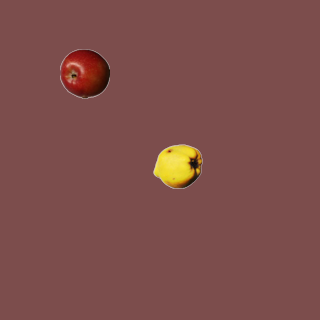Apple Braeburn: (59, 48, 109, 98)
Quince: (152, 141, 202, 191)
